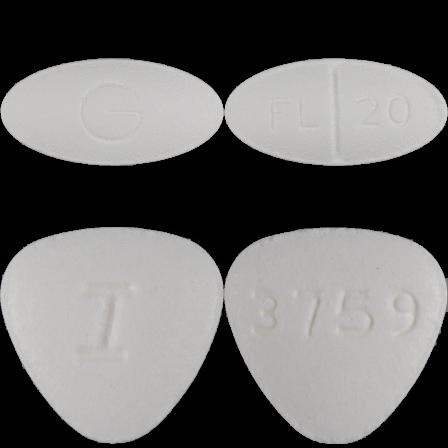0615-5502: (0, 0, 224, 224)
